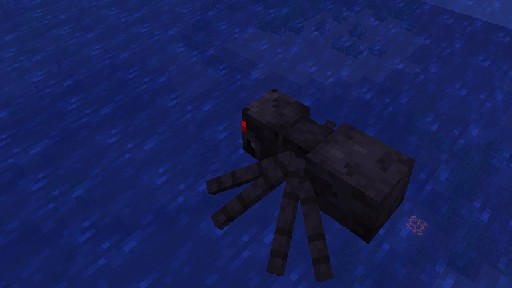spider: (205, 87, 415, 282)
